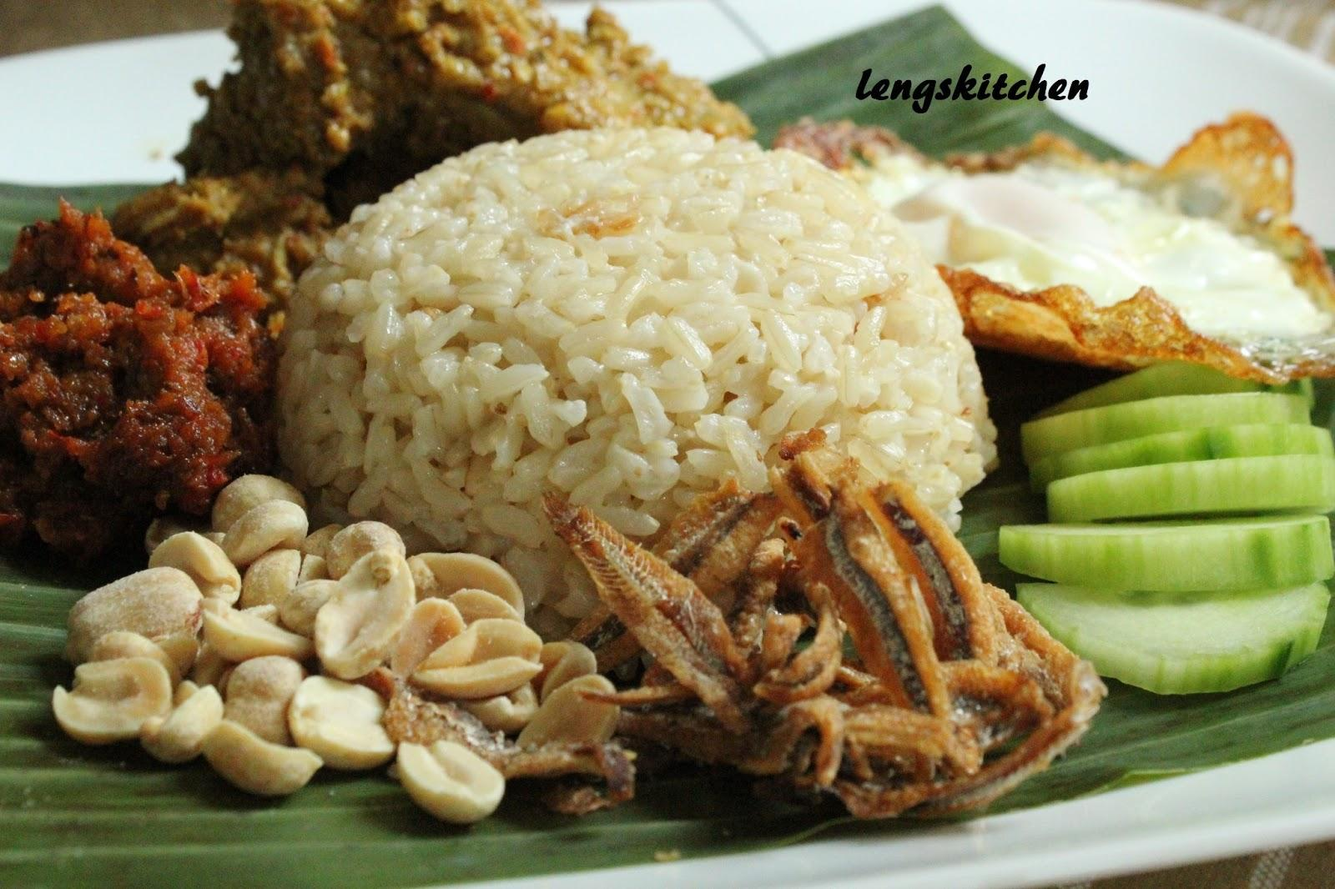Anchovies: (382, 428, 1106, 821)
Cucumber: (995, 368, 1335, 696)
Fried-Egg: (768, 113, 1335, 385)
Peanuts: (50, 475, 634, 826)
Rendang-Chicken: (108, 0, 751, 287)
Rice: (277, 130, 996, 646)
Sambal: (0, 208, 280, 588)
